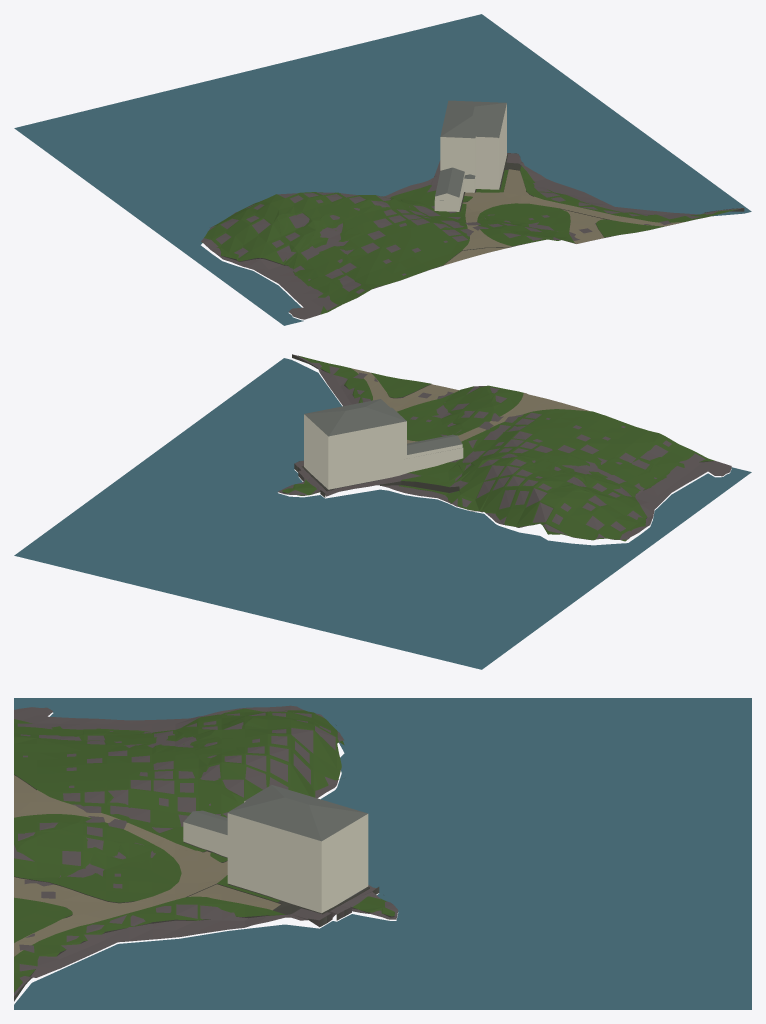
3 views of the same model, one above another, from view 1: azimuth 30°, elevation 25°; view 2: azimuth 150°, elevation 25°; view 3: azimuth 270°, elevation 25° (orthographic). The views are drawn at different scales.
Parts seen in each view (by area): view 1: c_m18_p00; view 2: c_m18_p00; view 3: c_m18_p00.
Boxes of the visible parts, x1,y1,x2,y2 form: c_m18_p00: (14,14,751,325); c_m18_p00: (14,354,751,669); c_m18_p00: (14,698,751,1009).
Size of the model in its own units: 128 by 17.66 by 128.
